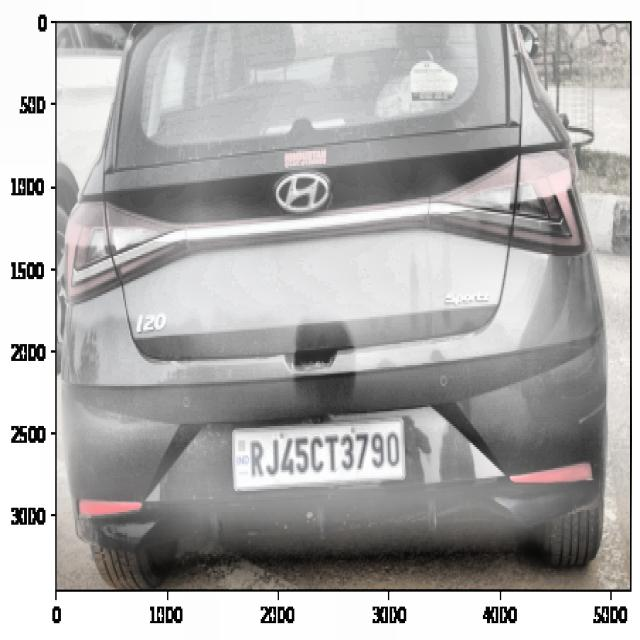license_plate: (240, 426, 405, 484)
